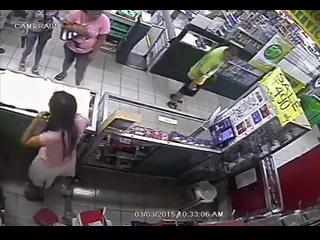Normal: (20, 90, 90, 198), (167, 44, 236, 110), (53, 11, 111, 86), (18, 11, 60, 76)
